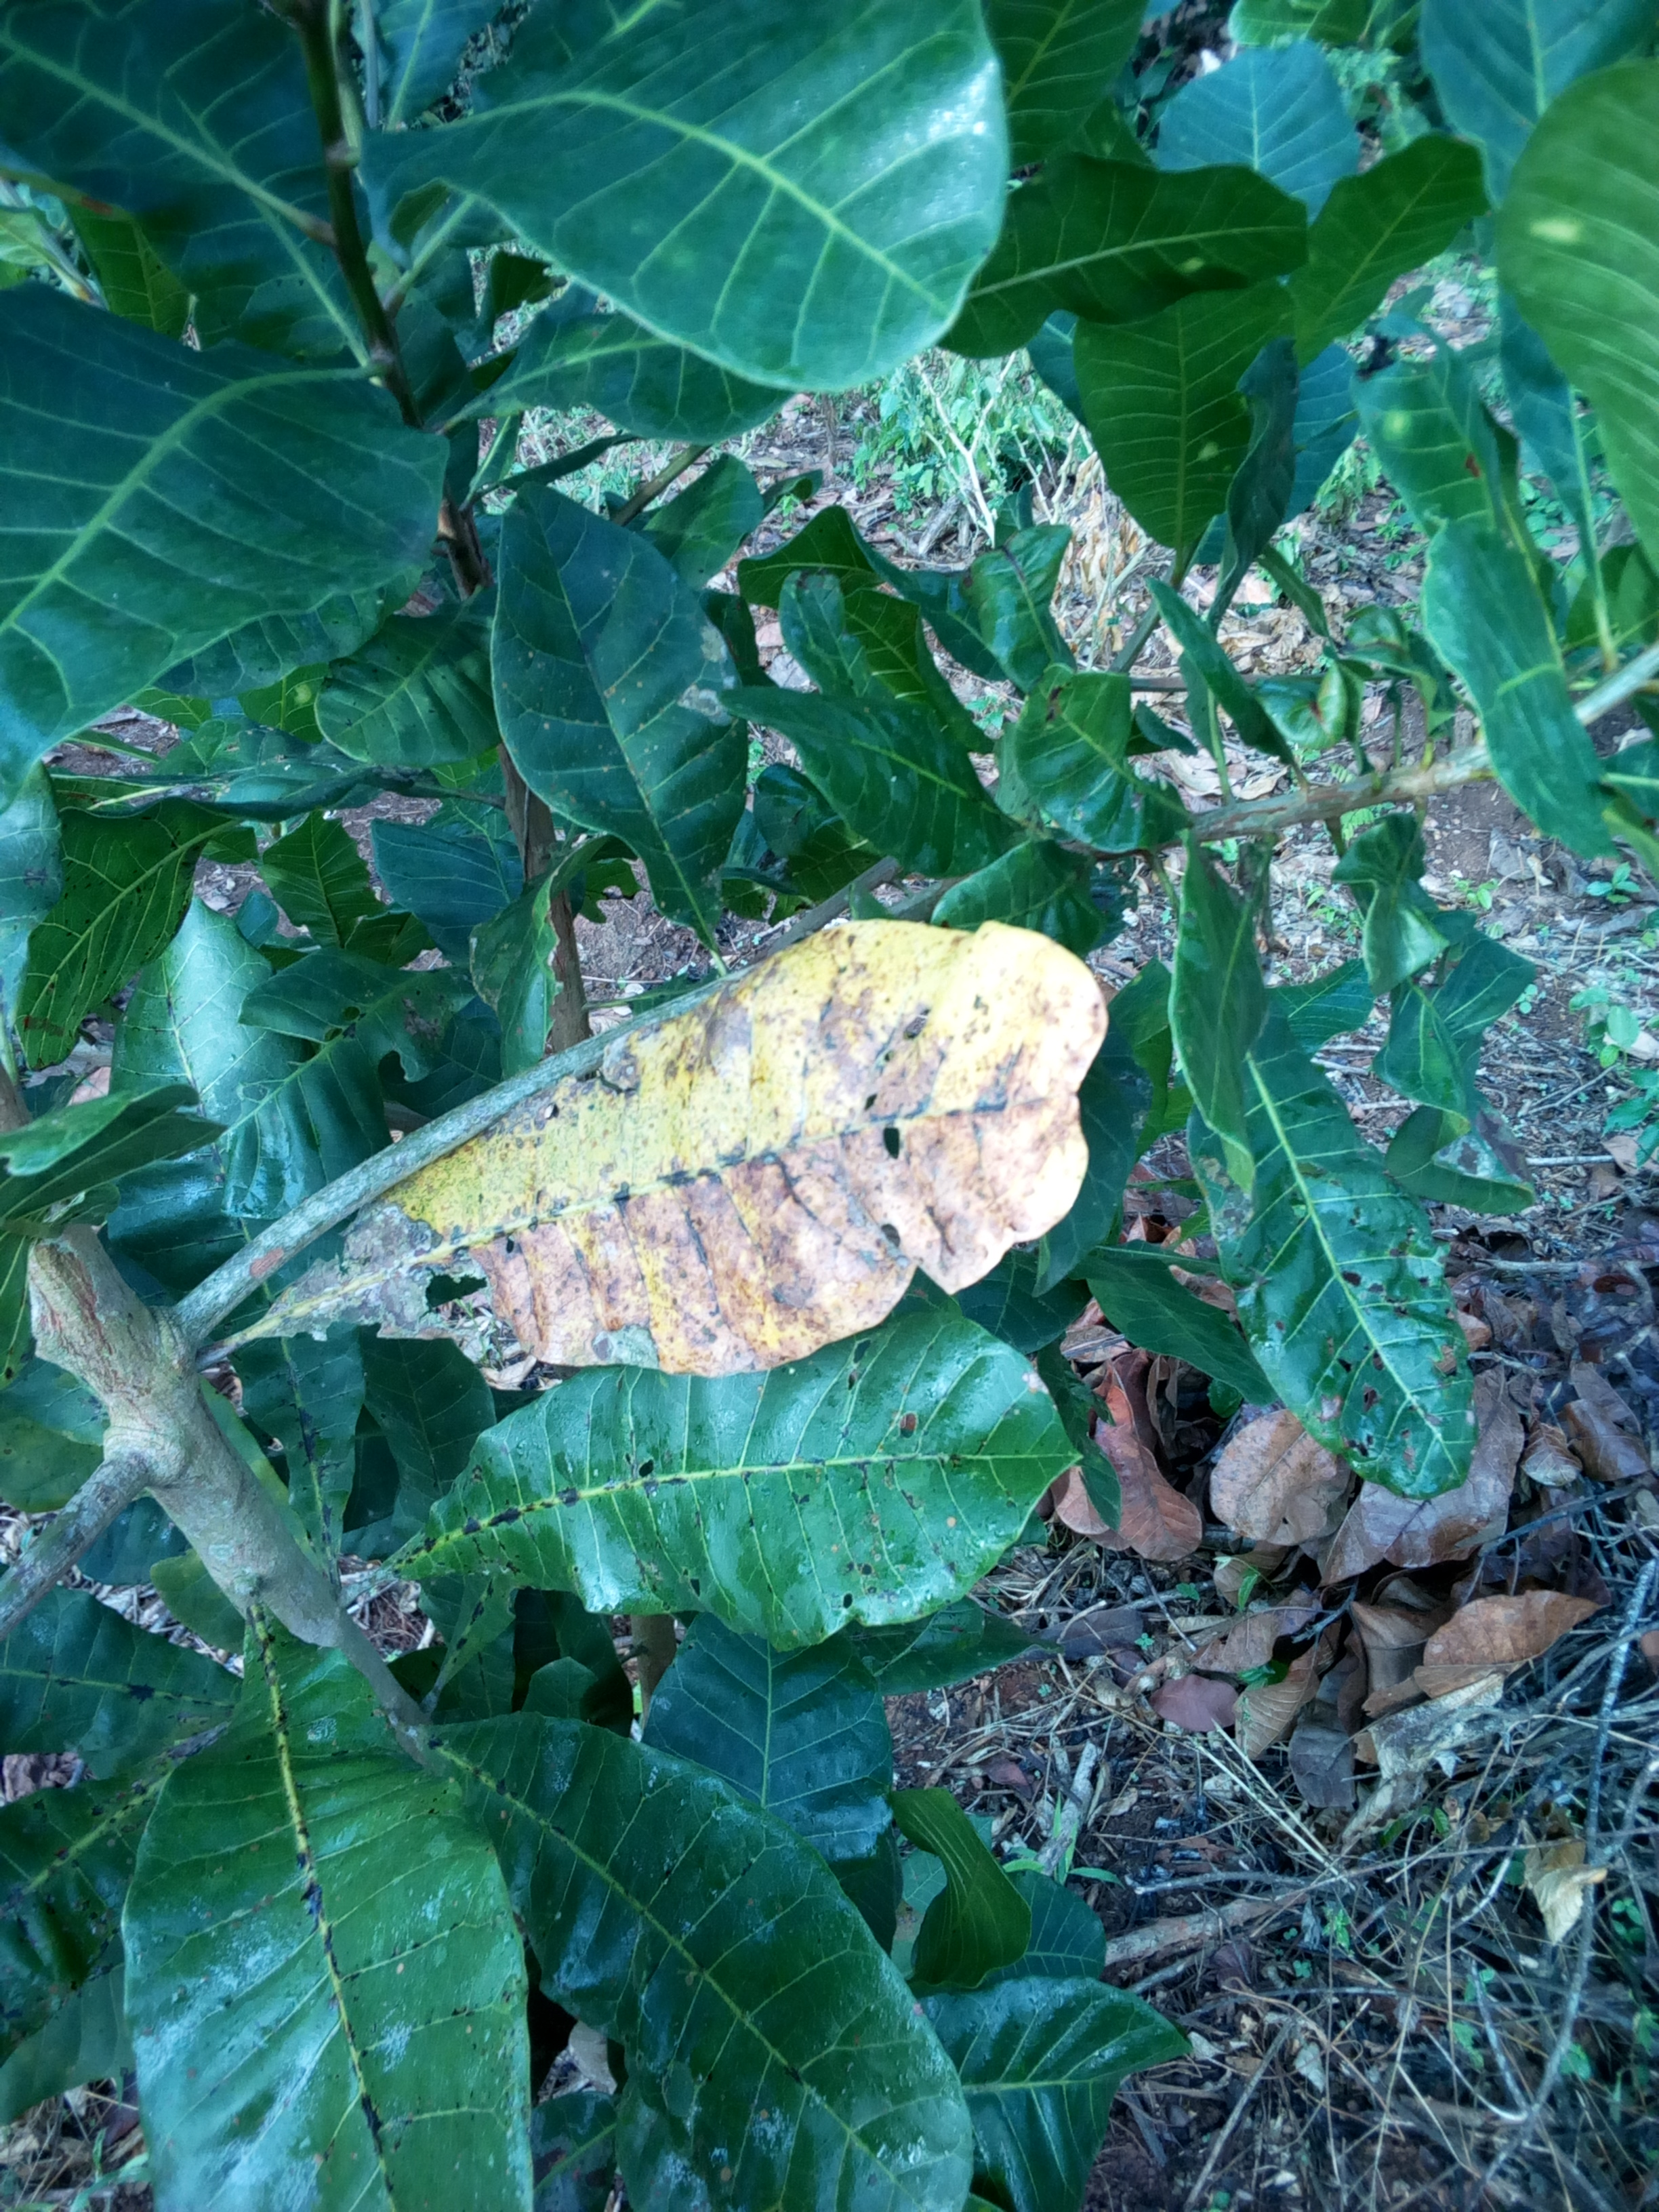Anthracnose: (298, 920, 1110, 1386), (373, 1306, 1084, 1632), (131, 1705, 545, 2212), (1216, 991, 1486, 1507)
